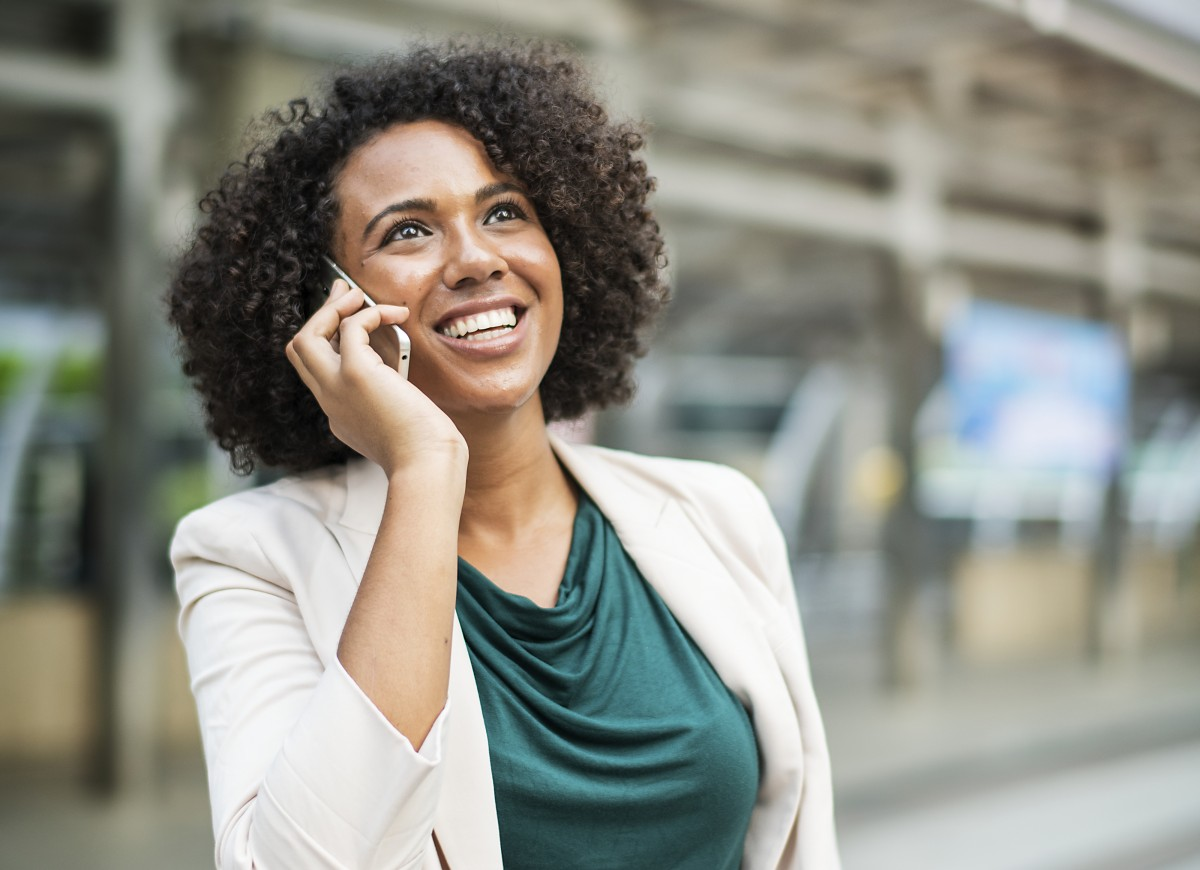phone: (301, 260, 429, 410)
talk: (294, 159, 567, 503)
